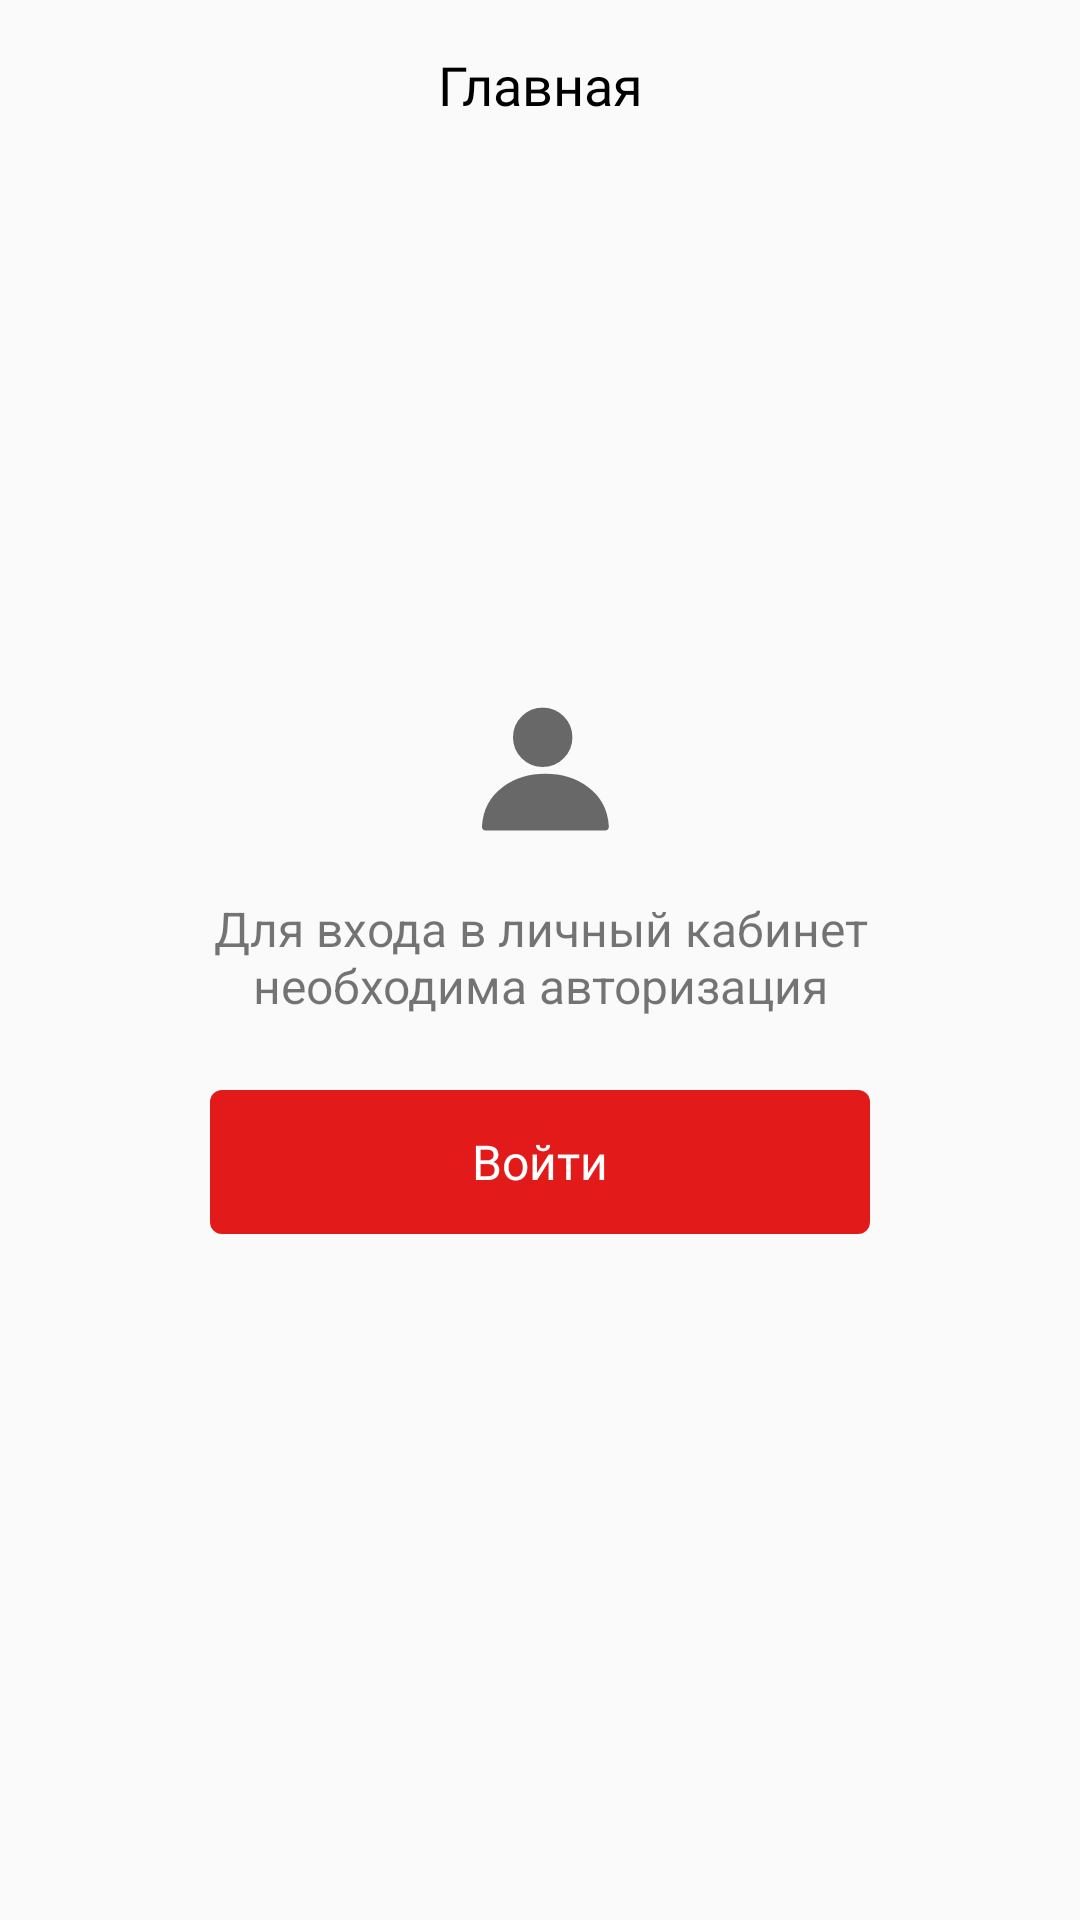

Where icons sit on this 1080×1920 app screen, as (x1, y1, x2, y2):
profile: (482, 707, 609, 831)
